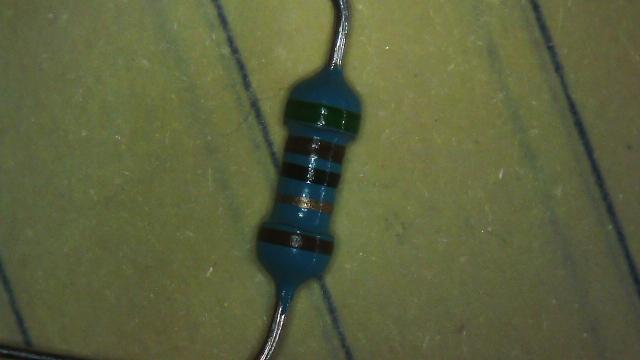black: (281, 162, 339, 188)
brown: (258, 226, 333, 255), (284, 135, 344, 162)
gold: (276, 194, 332, 212)
green: (286, 99, 360, 132)
resistor: (248, 59, 373, 311)
